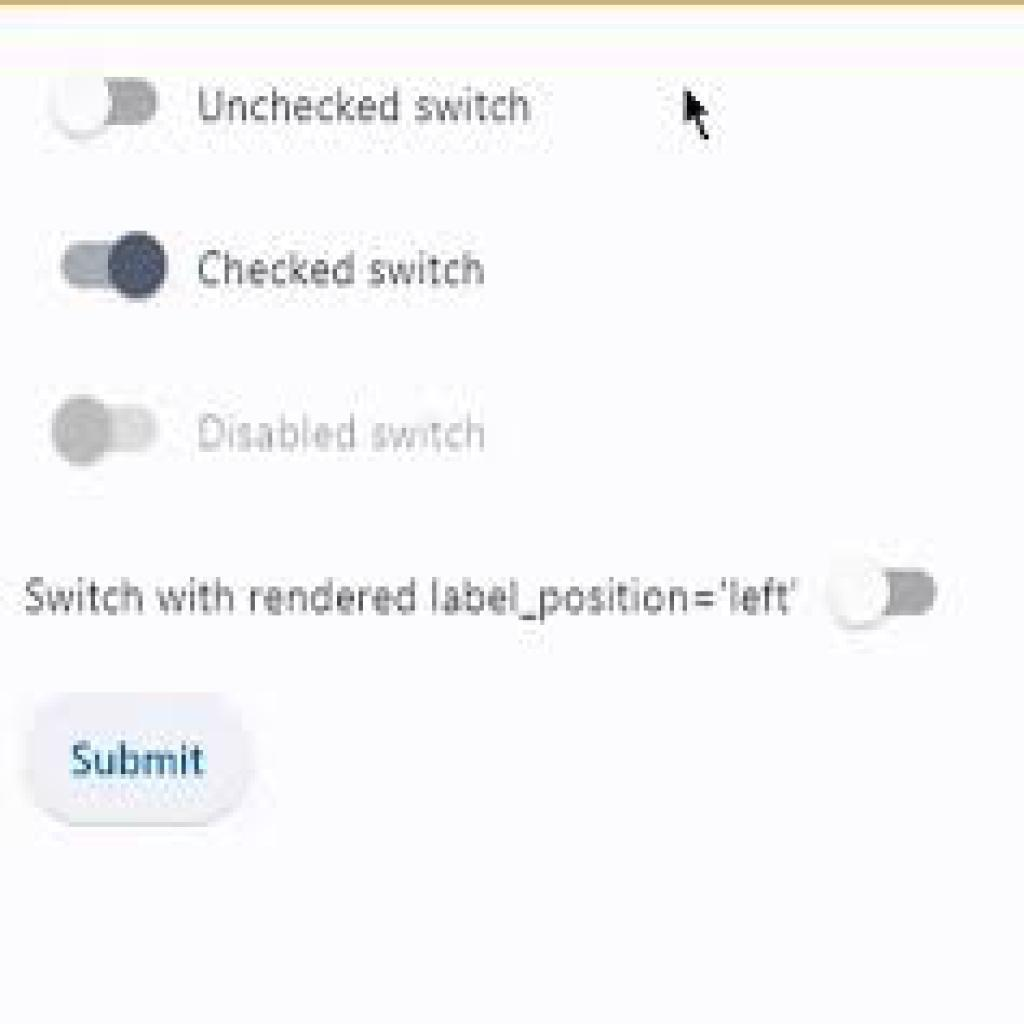button: (32, 699, 255, 827)
switch: (49, 390, 163, 470), (48, 67, 159, 148), (62, 230, 170, 306), (830, 557, 940, 628)
